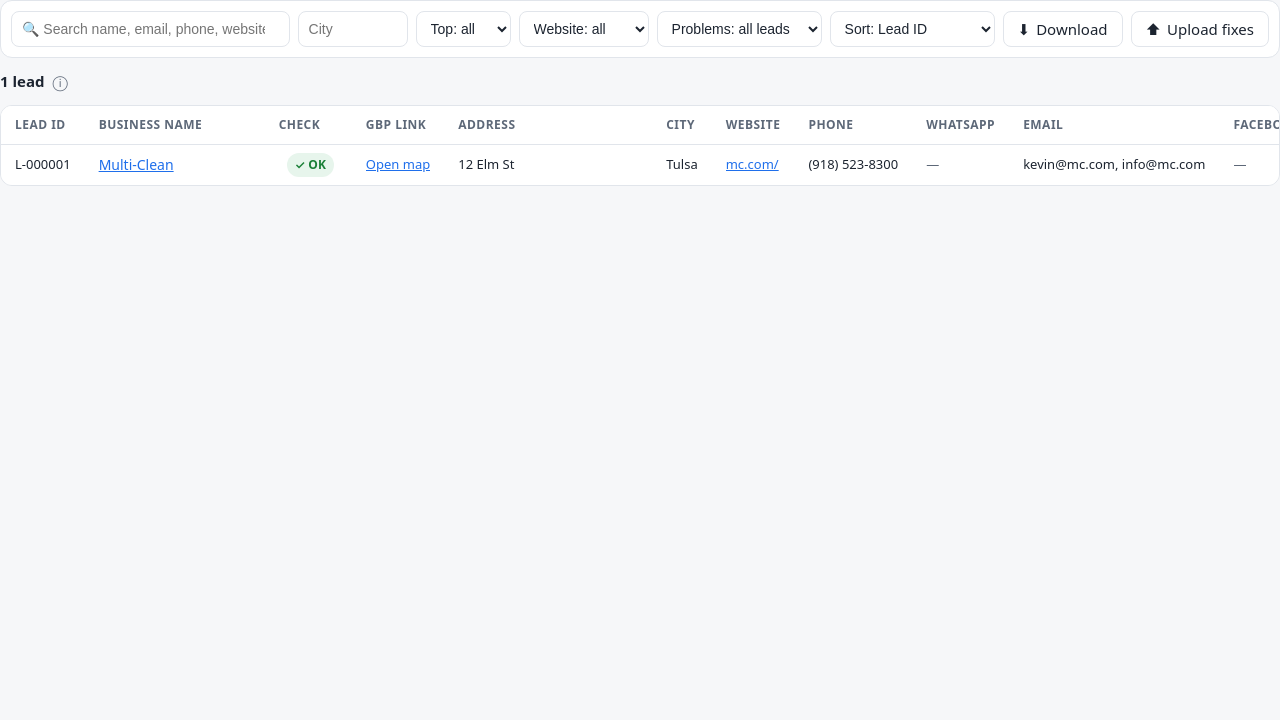
Test case: deleting a lead asks once more
What coordinates should you click on to do the following:
click the button "Multi-Clean"
I would click on:
 (136, 164)
Its box is x1=99 y1=154 x2=174 y2=175.
(page scrolled)
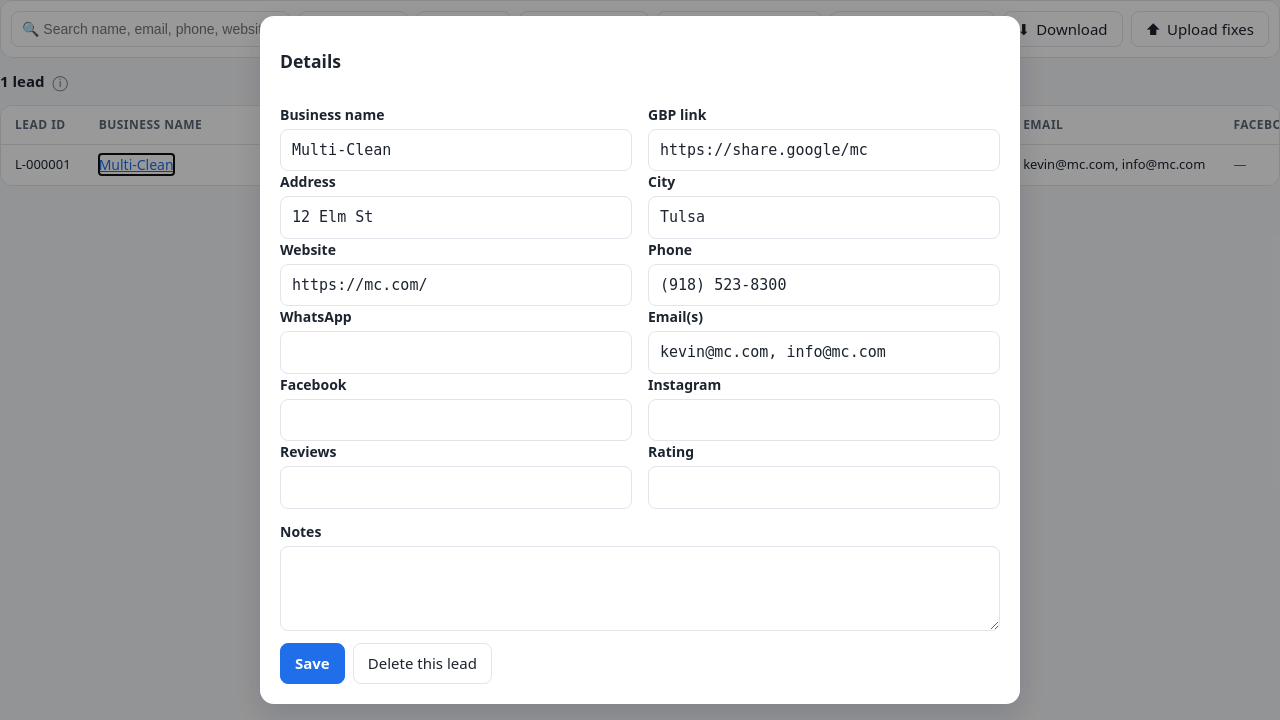
What coordinates should you click on to do the following:
click the button "Delete this lead"
I would click on:
 (422, 664)
Its box is x1=353 y1=643 x2=492 y2=684.
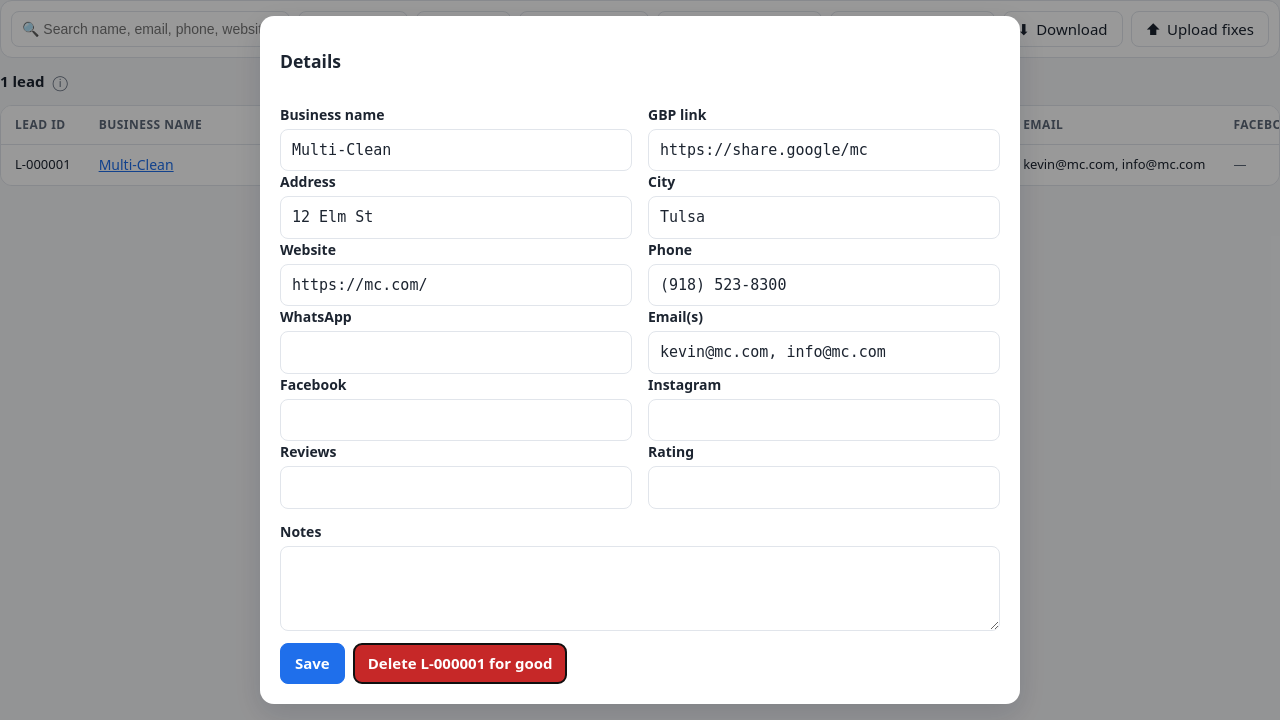
What coordinates should you click on to do the following:
click the button "Delete L-000001 for good"
I would click on:
 (460, 664)
Its box is x1=353 y1=643 x2=568 y2=684.
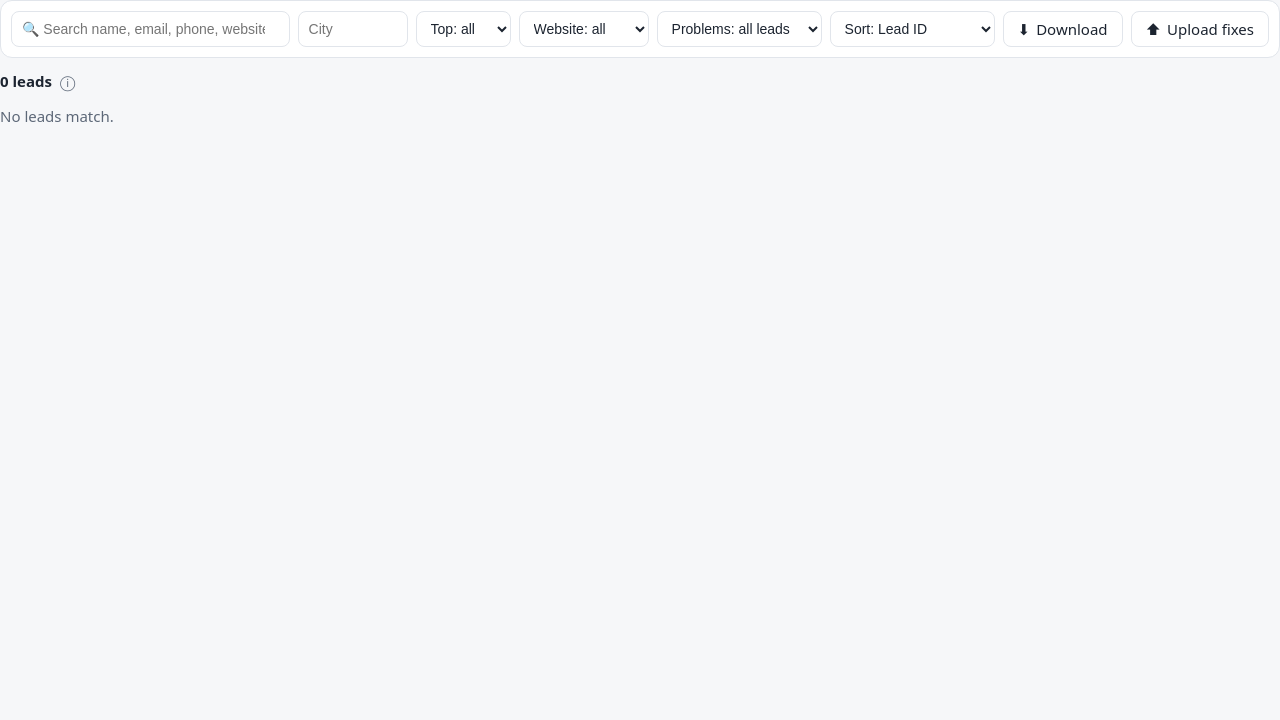
Expected: the text "No leads match." is shown, x1=0 y1=106 x2=114 y2=126
